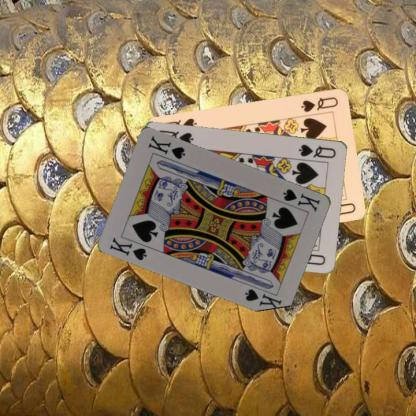Ks: (107, 234, 148, 262), (280, 186, 322, 213)
Qs: (298, 94, 340, 113), (296, 141, 337, 159)
